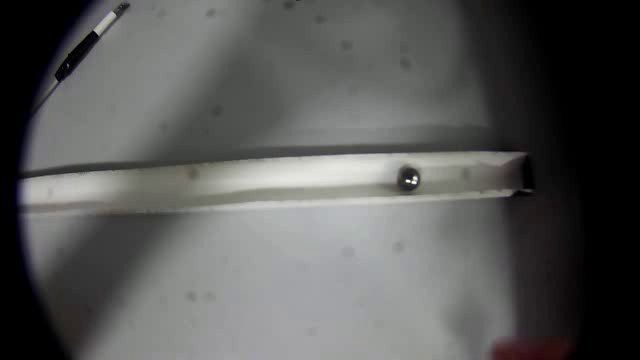gangzhu: (397, 166, 423, 194)
